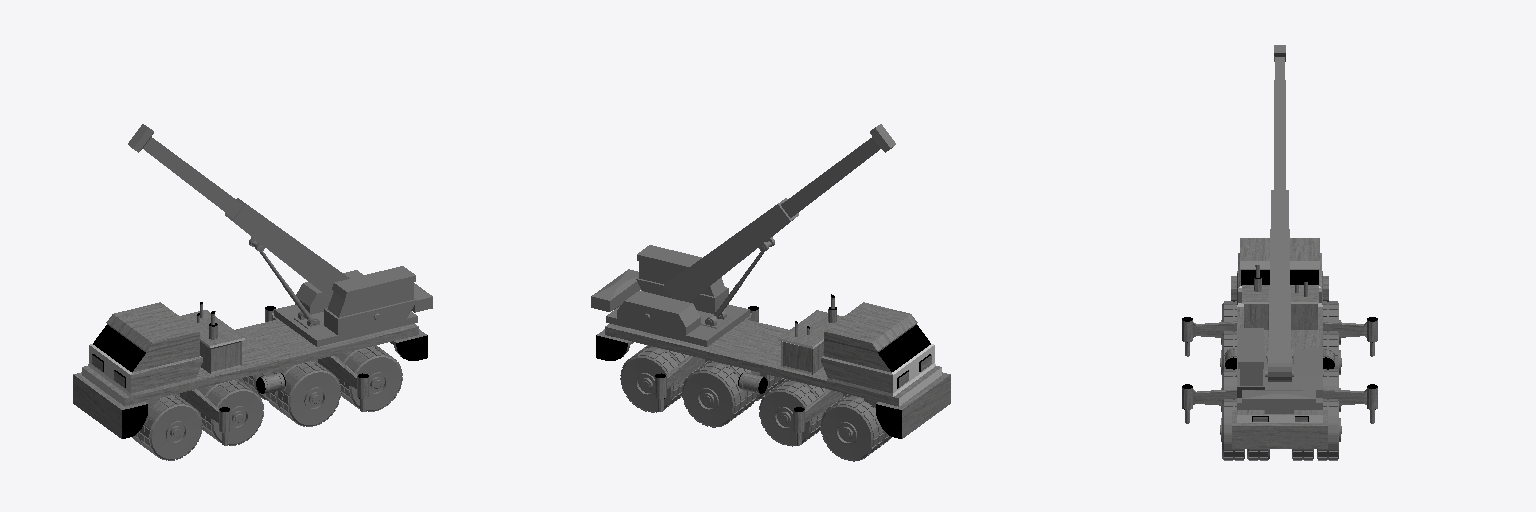
3 views of the same model, side by side, from view 1: azimuth 30°, elevation 25°; view 2: azimuth 150°, elevation 25°; view 3: azimuth 270°, elevation 25° (orthographic).
Visible parts, largest first — view 1: pCylinder35, pCylinder22, pCube8, pCylinder21; view 2: pCylinder35, pCylinder22, pCube8, pCylinder21; view 3: pCylinder35, pCylinder21, pCube8, pCylinder22.
Part boxes in pixels (left/top/right/bottom): pCylinder35: left=73, top=302, right=427, bottom=445; pCylinder22: left=132, top=345, right=402, bottom=460; pCube8: left=274, top=266, right=432, bottom=346; pCylinder21: left=128, top=124, right=349, bottom=324; pCylinder35: left=596, top=294, right=950, bottom=445; pCylinder22: left=620, top=345, right=891, bottom=461; pCube8: left=591, top=245, right=749, bottom=346; pCylinder21: left=655, top=124, right=895, bottom=323; pCylinder35: left=1182, top=238, right=1377, bottom=448; pCylinder21: left=1266, top=45, right=1292, bottom=381; pCube8: left=1236, top=328, right=1323, bottom=413; pCylinder22: left=1220, top=301, right=1341, bottom=460.
Size of the model in its own units: 1029 by 976 by 551.
Materials: 9 (1 with a texture image).